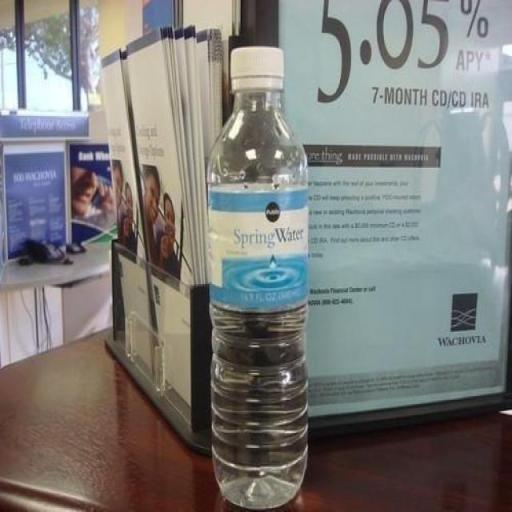plastic: (202, 42, 314, 511)
